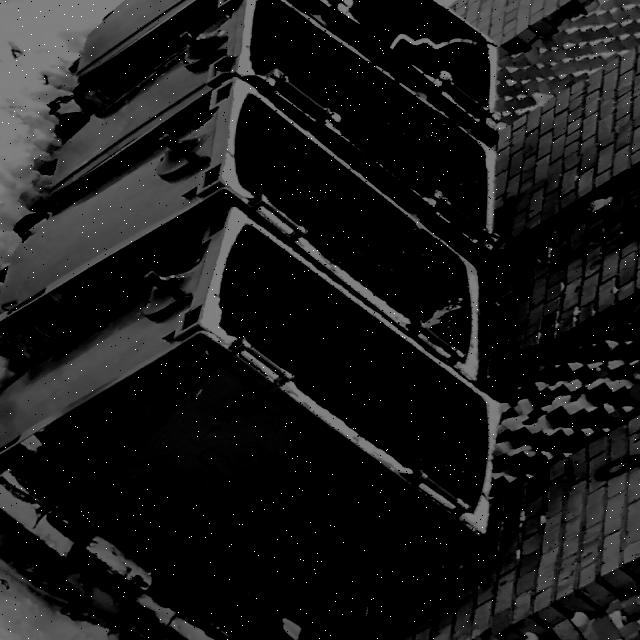Trashcan: (0, 213, 517, 640), (0, 80, 512, 376), (14, 9, 515, 229)
